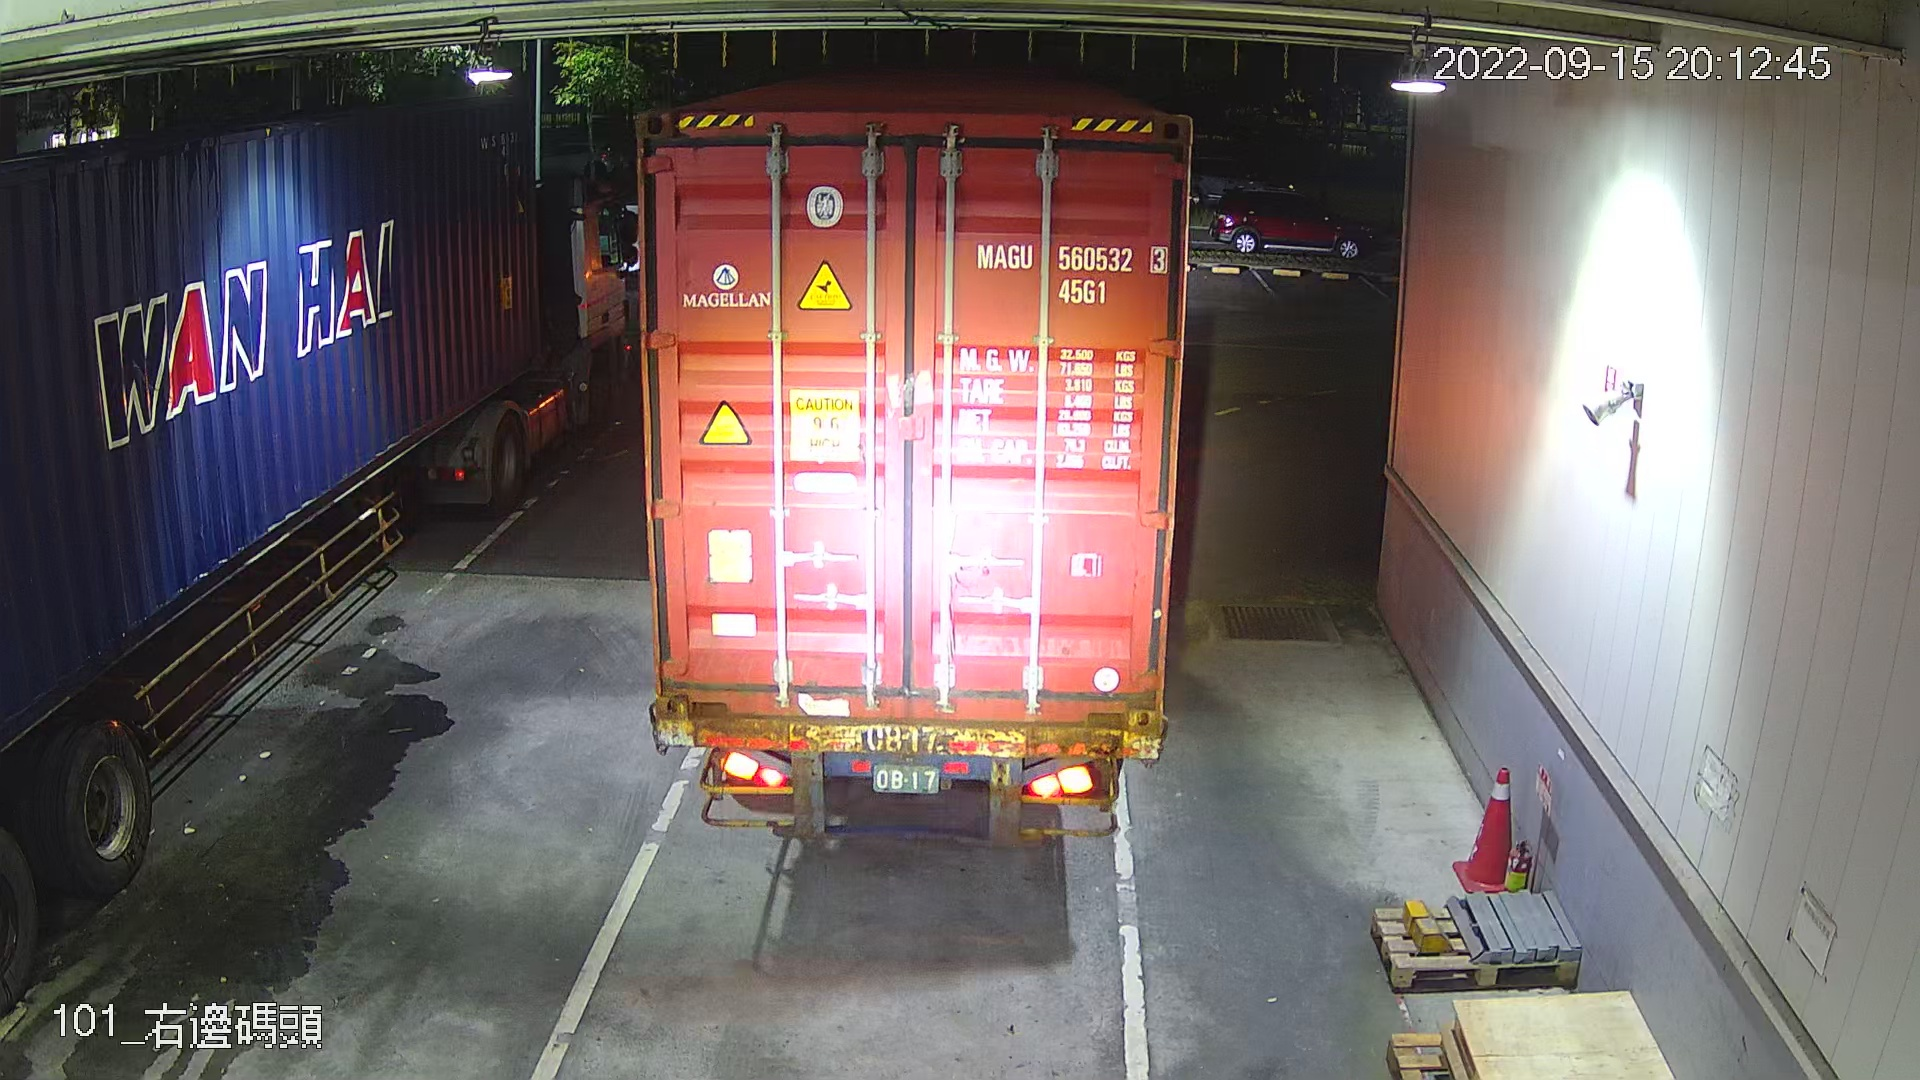container: (967, 227, 1172, 314)
